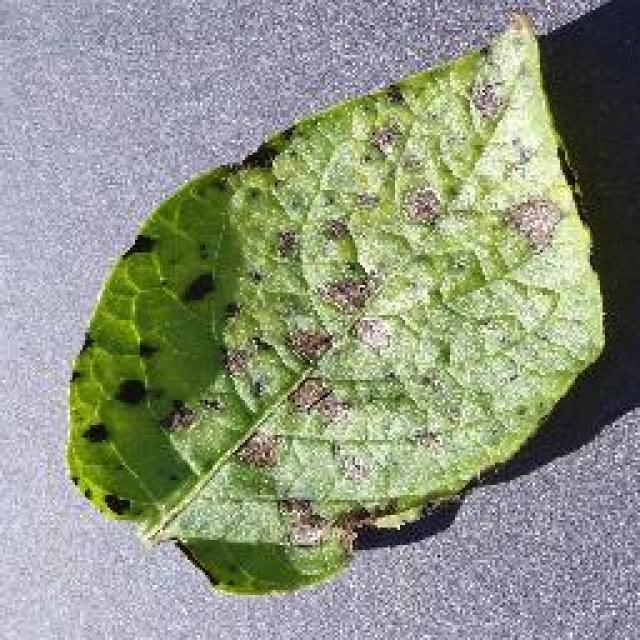early_blight: (60, 8, 610, 600)
